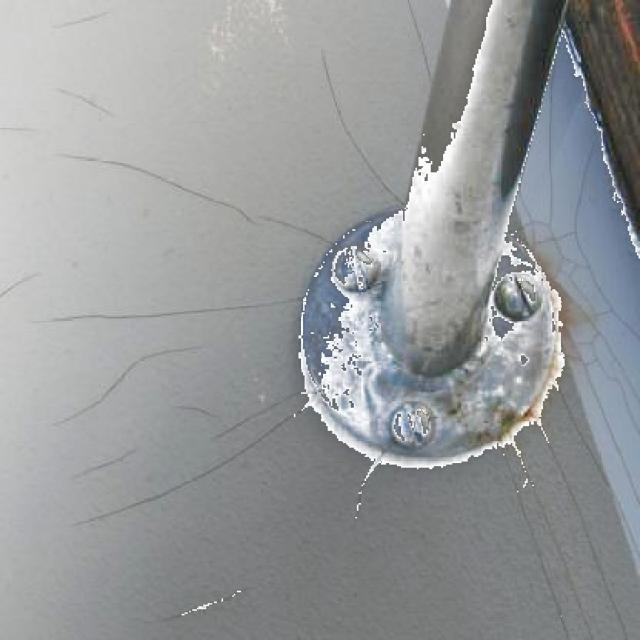crack: (47, 414, 323, 534), (61, 150, 337, 238), (12, 272, 297, 341), (41, 344, 197, 424), (326, 51, 409, 194), (41, 450, 152, 470)
